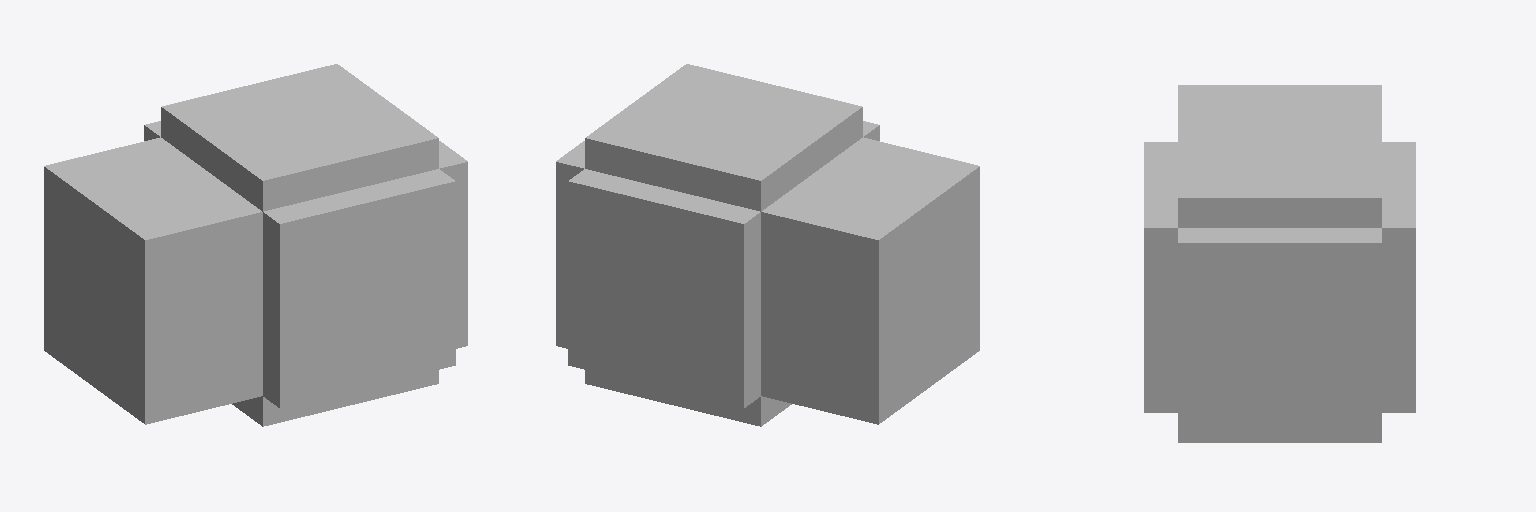
File: arm_hand.obj
3 renders of one model, left to right at view 1: azimuth 30°, elevation 25°; view 2: azimuth 150°, elevation 25°; view 3: azimuth 270°, elevation 25°, orthographic.
Visible parts, largest first — view 1: hand; view 2: hand; view 3: hand.
Part boxes in pixels (x1,y1,x2,y2): hand: (44, 64, 467, 426); hand: (556, 64, 979, 426); hand: (1144, 85, 1415, 442).
Bounding box in the file's own units: 0.6875 × 0.5 × 0.5.